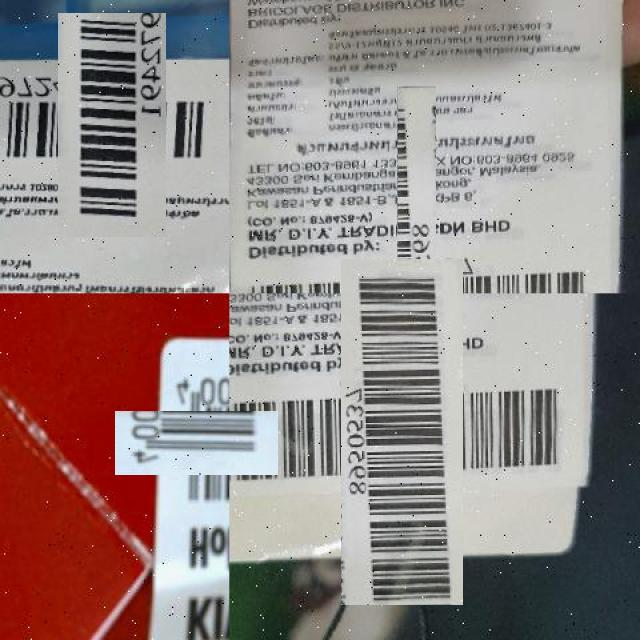Barcode: (285, 315, 520, 549), (313, 170, 519, 377), (29, 42, 195, 209), (139, 386, 254, 499)
